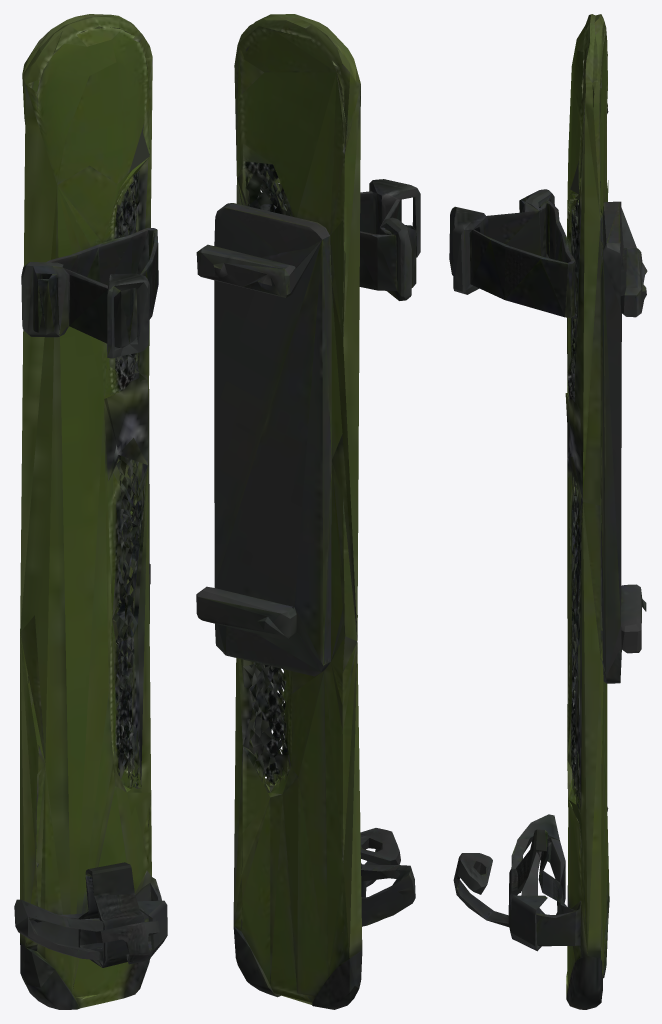
File: lkdv-m13.glb
3 views of the same model, side by side, from view 1: azimuth 30°, elevation 25°; view 2: azimuth 150°, elevation 25°; view 3: azimuth 270°, elevation 25° (orthographic).
Bounding box in the file's own units: 0.0831 × 0.45 × 0.0831.
Materials: 1 (1 with a texture image).
